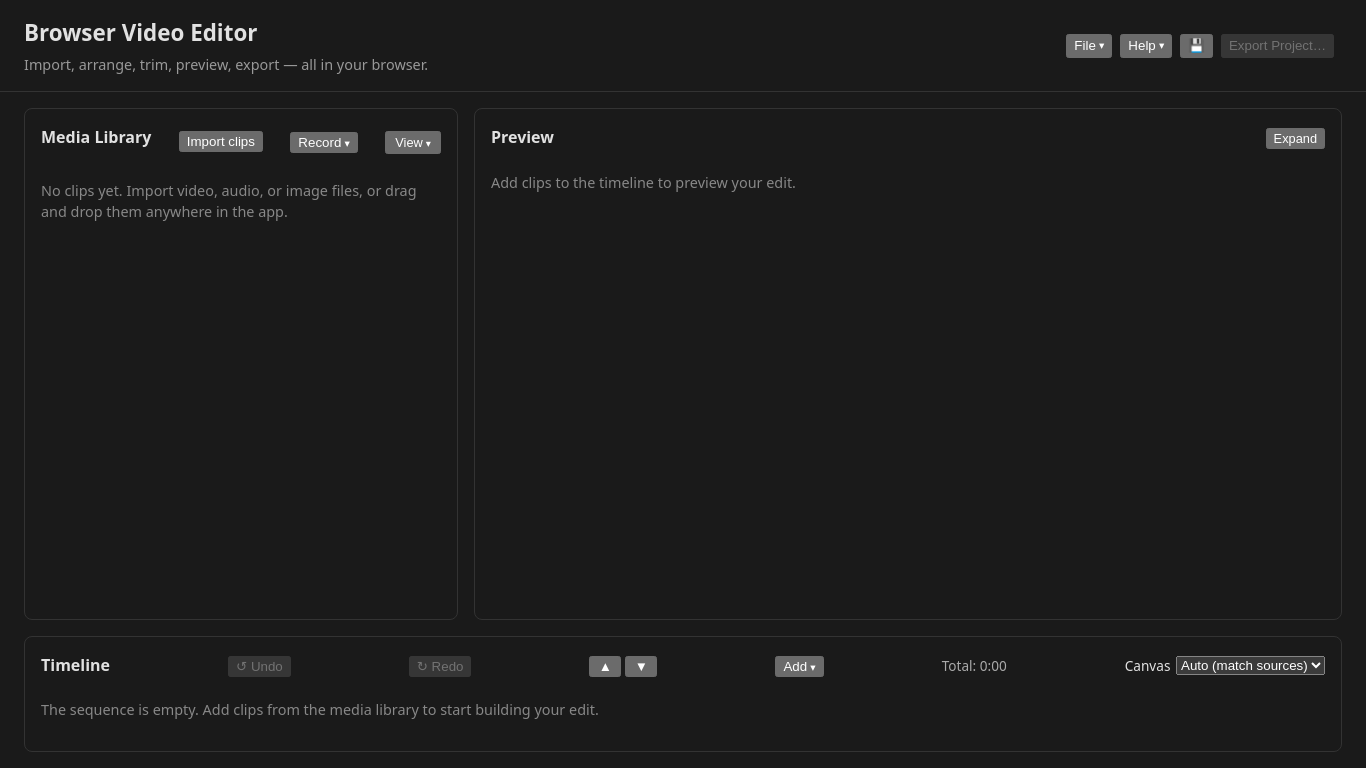
settings dialog (#286) › opens from the header gear and shows every preference at its current value
The width and height of the screenshot is (1366, 768).
Step 1. Click the button "File ▾" → coordinates (1089, 46), box [1066,34,1112,58]
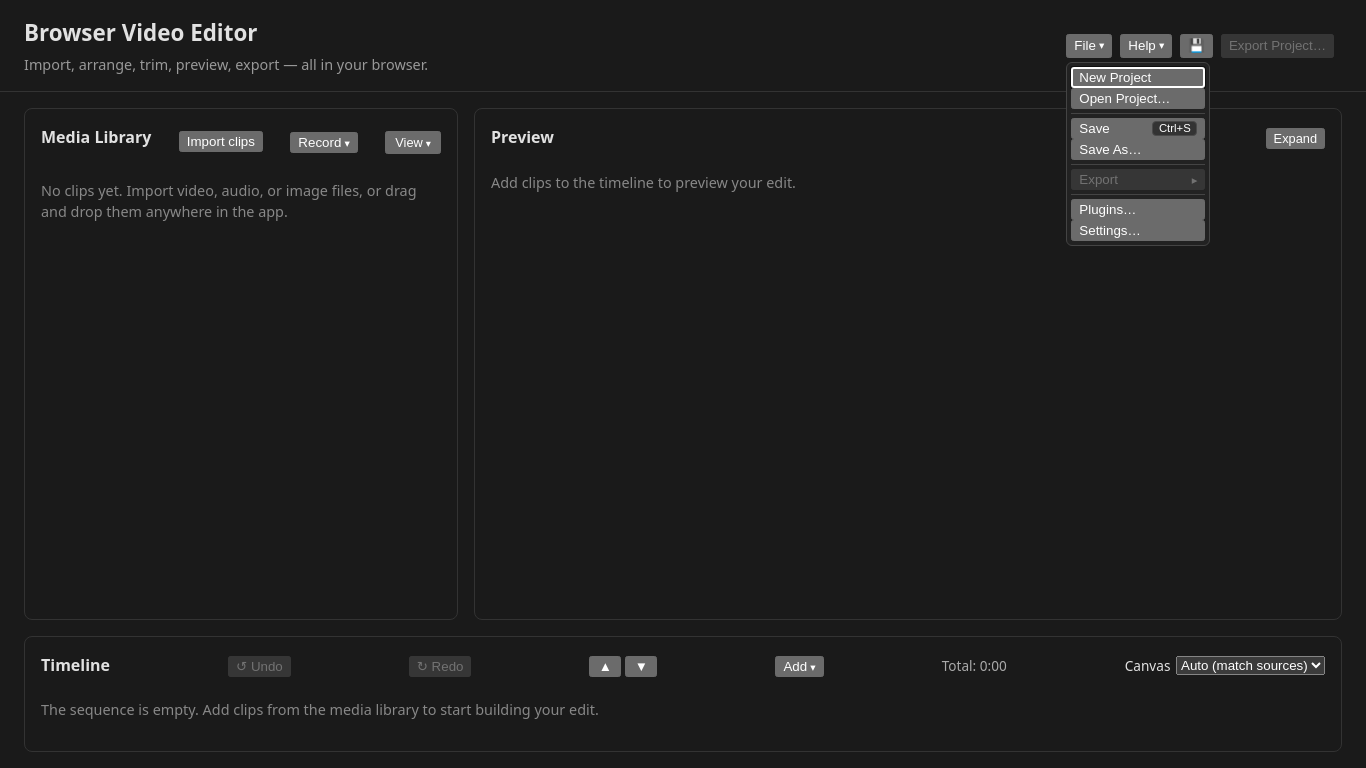
Step 2. Click the menu item "Settings…" → coordinates (1138, 231), box [1071,220,1205,241]
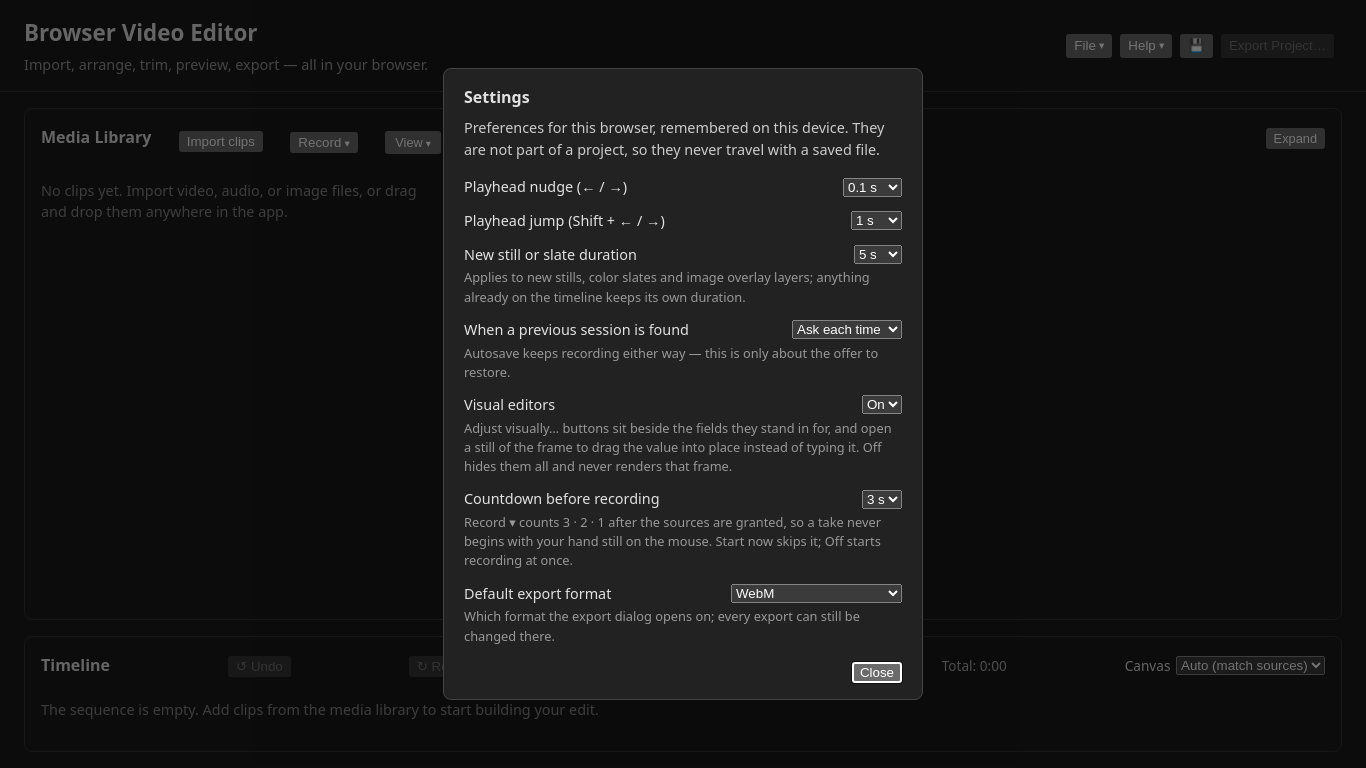
Now the dropdown labelled "Playhead nudge (← / →)" shows "0.1 s", box [843,178,902,197]
Now the dropdown labelled "Playhead jump (Shift + ← / →)" shows "1 s", box [851,211,902,230]
Now the dropdown labelled "New still or slate duration" shows "5 s", box [854,245,902,264]
